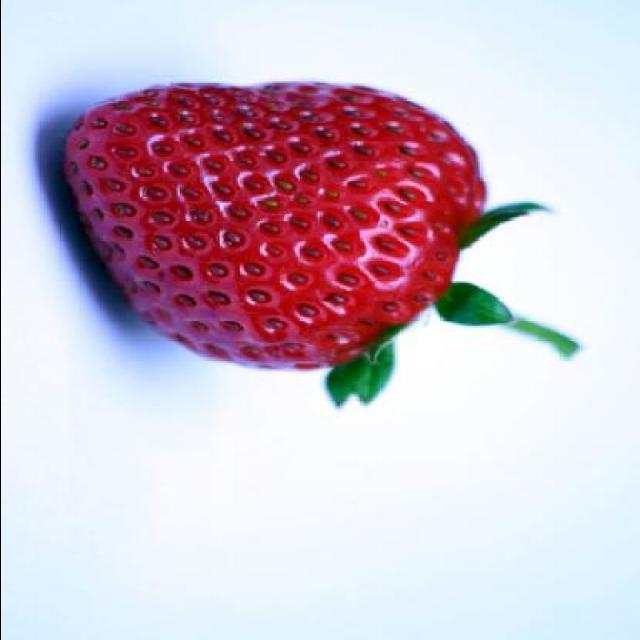Strawberry: (36, 65, 519, 392)
